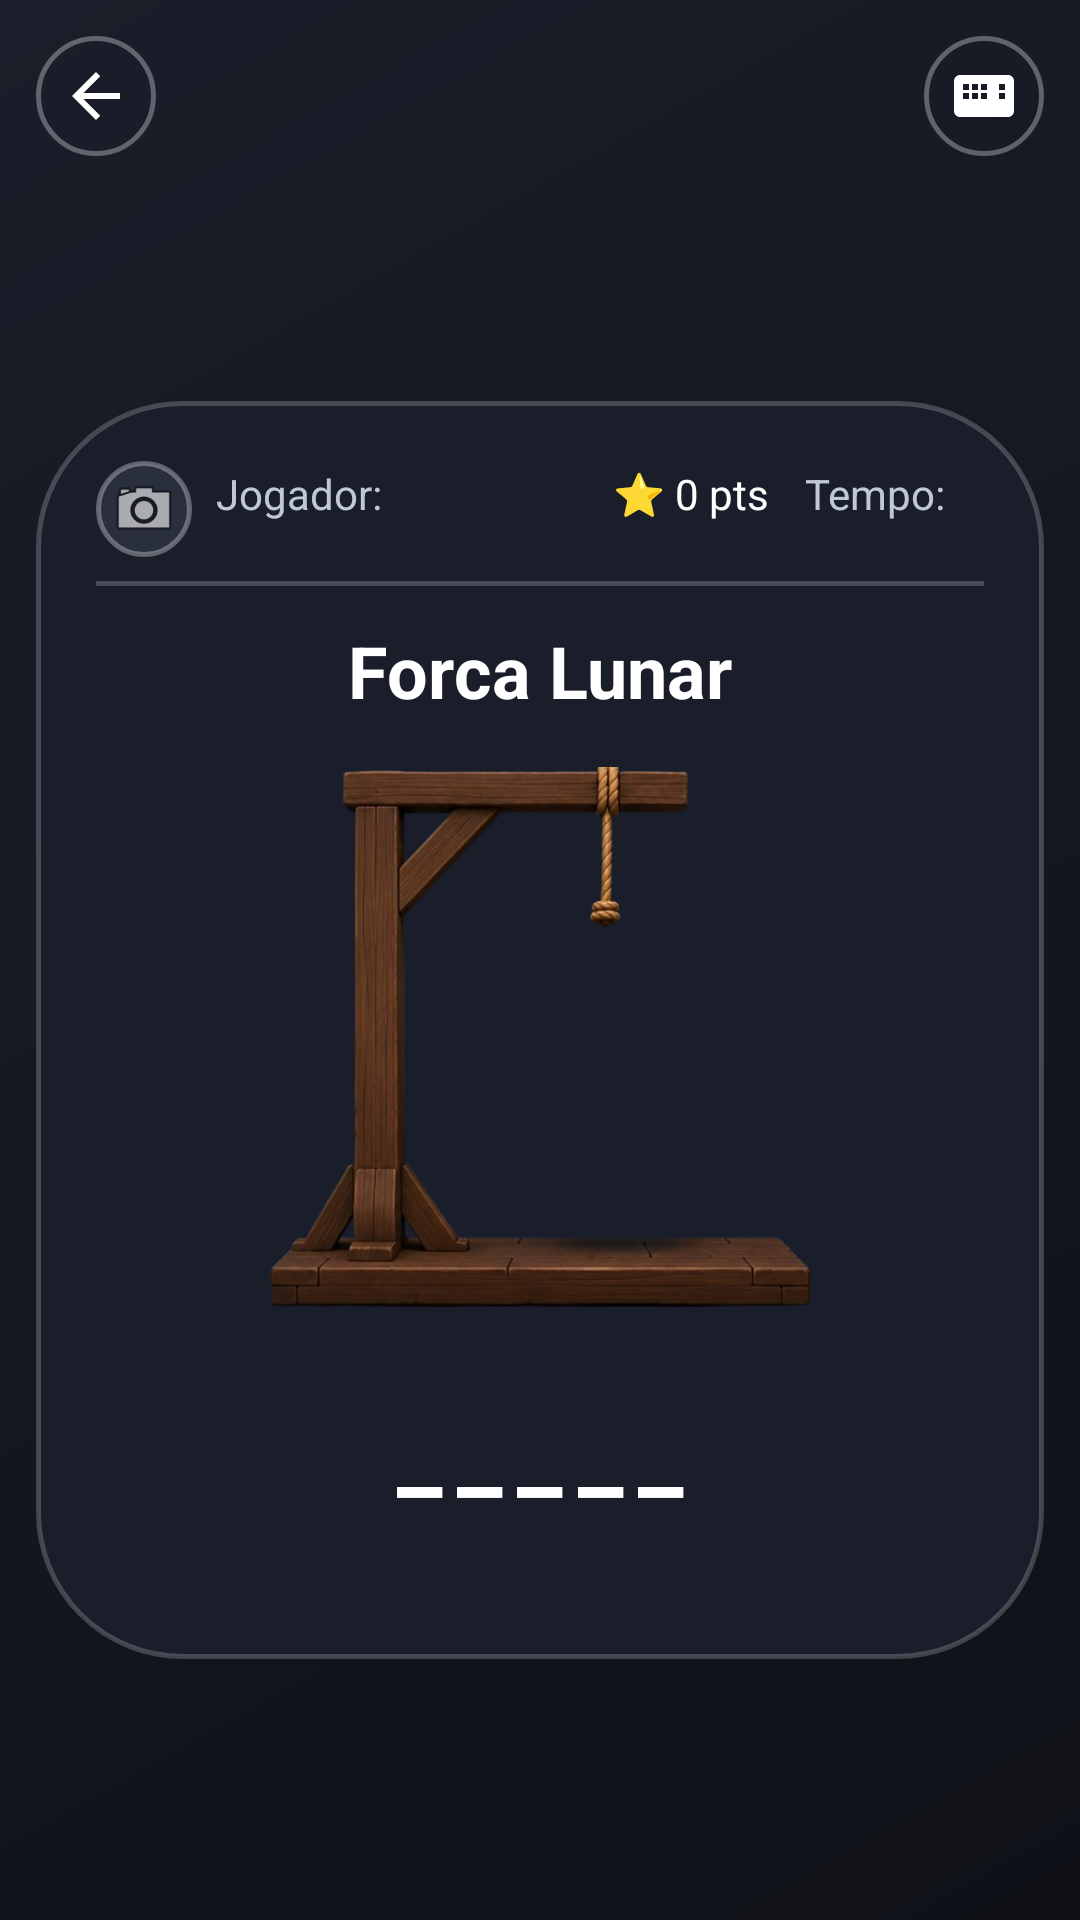

Screen size 1080x1920. Icon name, then its box in pixels as box=[x1, y1, x2, y2]:
Alternar teclado: box=[924, 36, 1044, 156]
Voltar: box=[36, 36, 156, 156]
